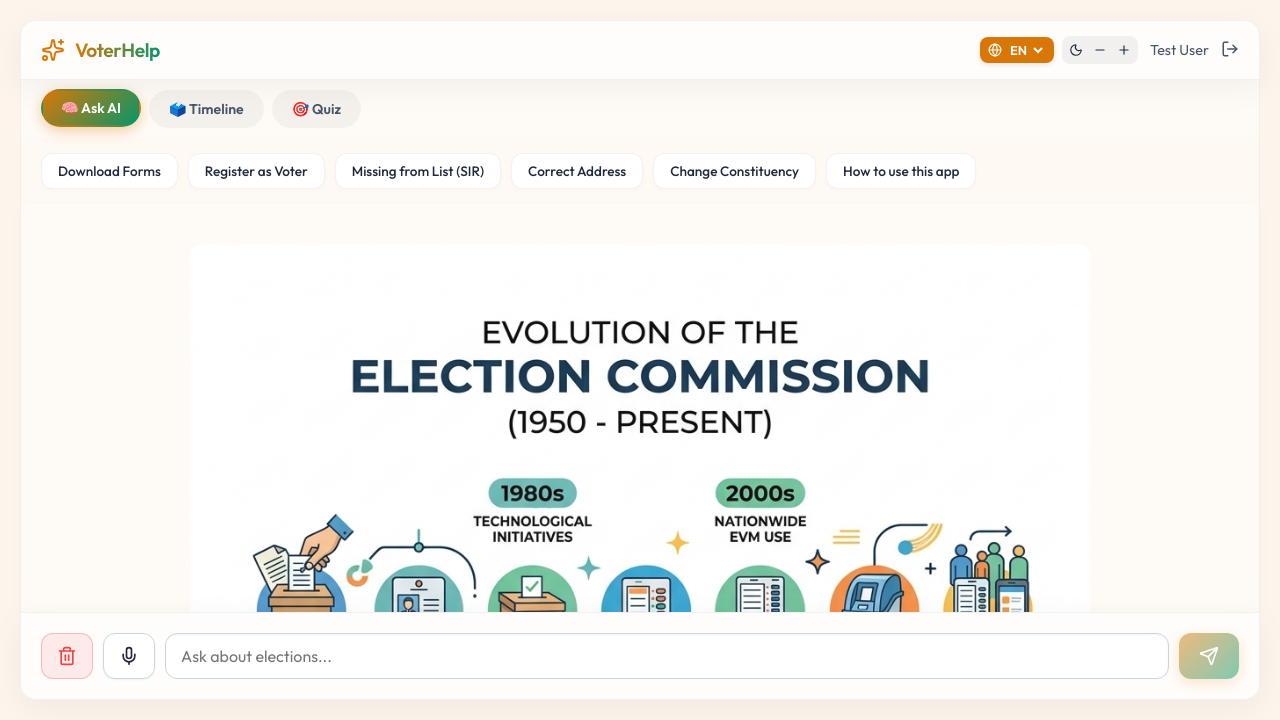
Test: Mic Feature Test › stops listening when mic button is clicked again
# Start listening
What coordinates should you click on to do the following:
click the button titled "Start speaking"
I would click on:
 (129, 656)
Its box is top-left (103, 633), bottom-right (155, 679).
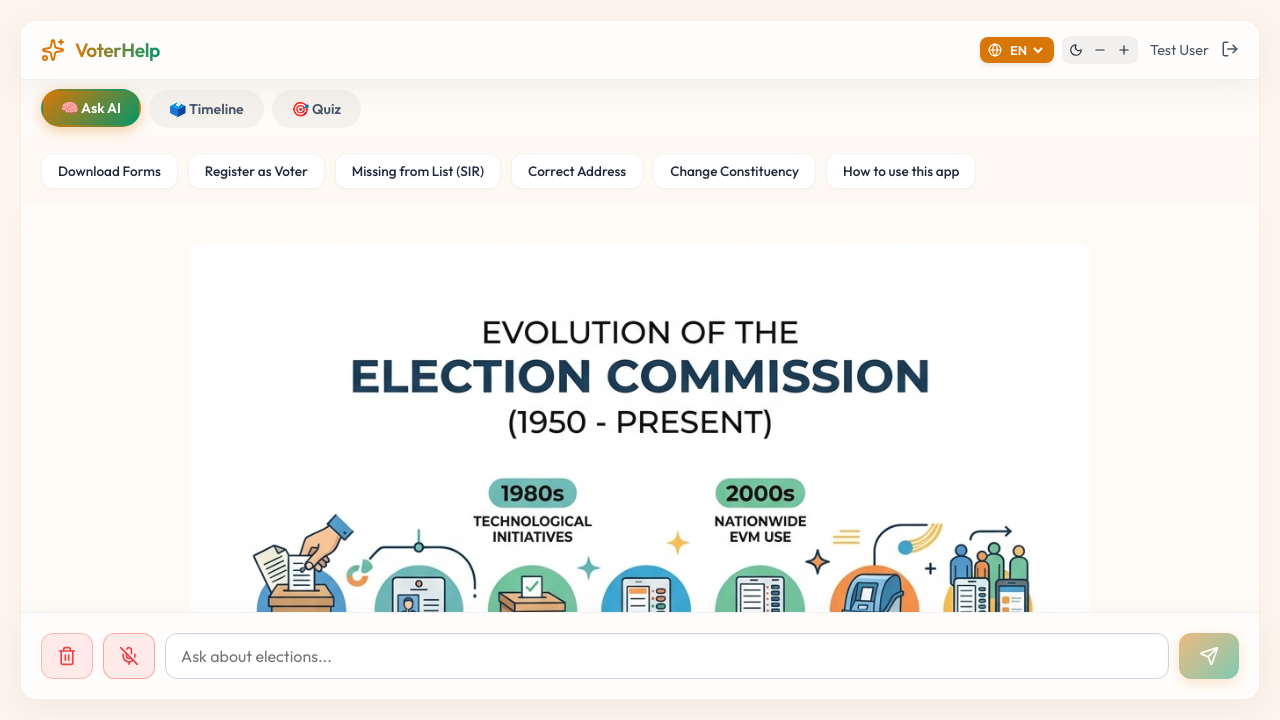
expect the button titled "Stop listening" is shown: met
# Stop listening
What coordinates should you click on to do the following:
click the button titled "Stop listening"
I would click on:
 (129, 656)
Its box is top-left (103, 633), bottom-right (155, 679).
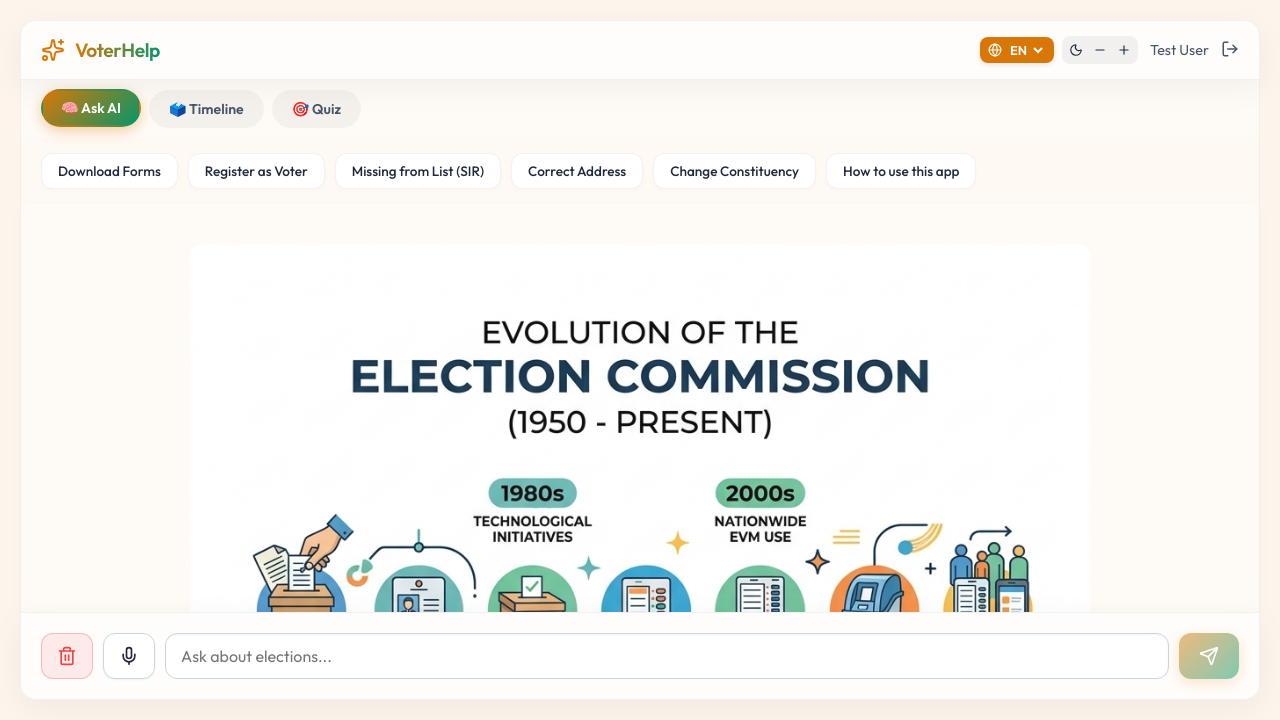
expect the button titled "Start speaking" is shown: met, box top-left (103, 633), bottom-right (155, 679)
